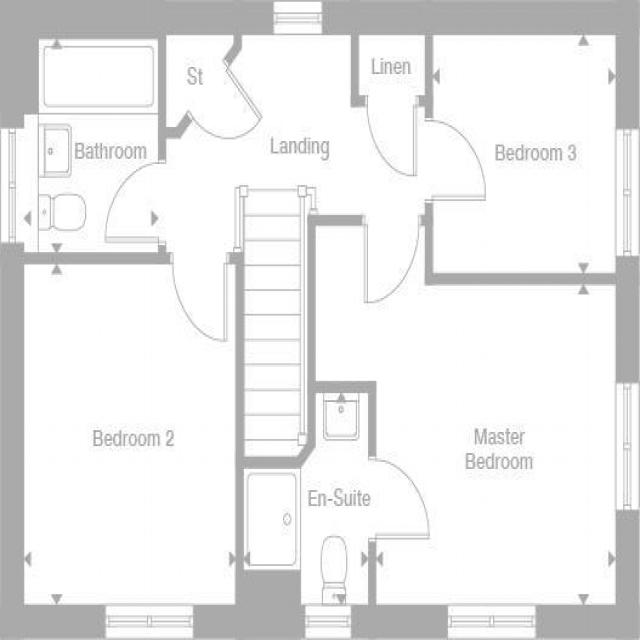DOOR: (182, 52, 271, 145), (364, 450, 439, 552), (420, 112, 493, 210), (166, 244, 232, 349), (361, 207, 427, 311), (101, 152, 171, 248), (362, 87, 423, 183)
ROOM: (306, 214, 640, 640), (0, 247, 246, 640), (419, 0, 640, 289)
WINDOW: (100, 598, 200, 640), (444, 599, 541, 640), (611, 379, 640, 516), (0, 123, 28, 251), (215, 598, 271, 640), (271, 0, 325, 39)
